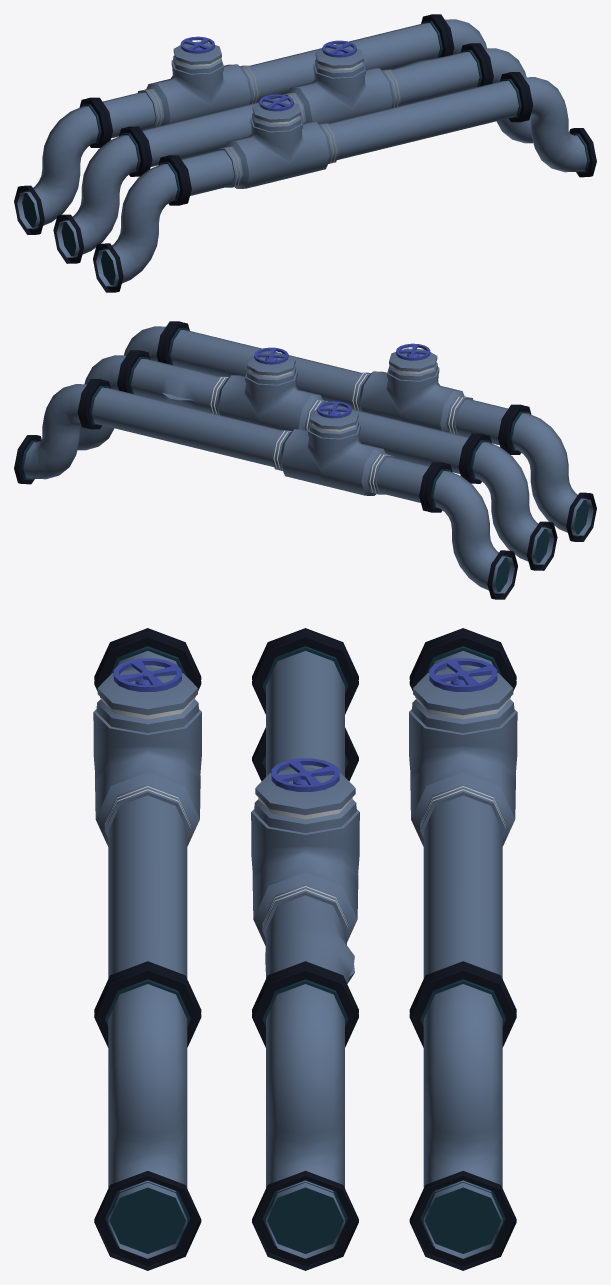
The model's file is PipeComplexSmall_A_13.fbx.
The picture shows the model from 3 angles, top to bottom: view 1: azimuth 30°, elevation 25°; view 2: azimuth 150°, elevation 25°; view 3: azimuth 270°, elevation 25°; orthographic projection. The views are drawn at different scales.
Visible parts, largest first — view 1: PipeComplexSmall_A_13.001; view 2: PipeComplexSmall_A_13.001; view 3: PipeComplexSmall_A_13.001.
Boxes of the visible parts, x1,y1,x2,y2 form: PipeComplexSmall_A_13.001: (14, 14, 596, 292); PipeComplexSmall_A_13.001: (14, 321, 596, 599); PipeComplexSmall_A_13.001: (93, 628, 517, 1270).
Bounding box in the file's own units: 1.4 × 0.4185 × 0.5378.
